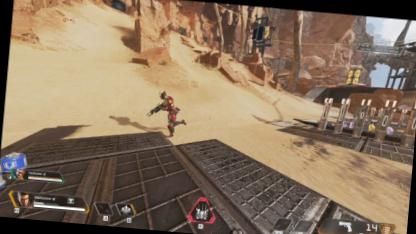Target: (156, 88, 180, 137)
